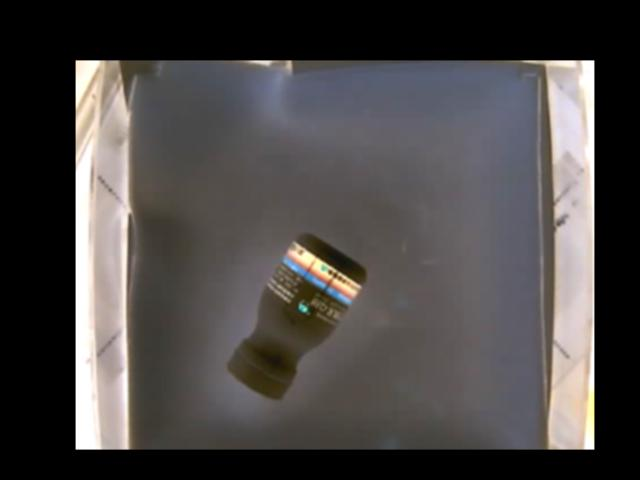Bottle: (231, 232, 368, 404)
